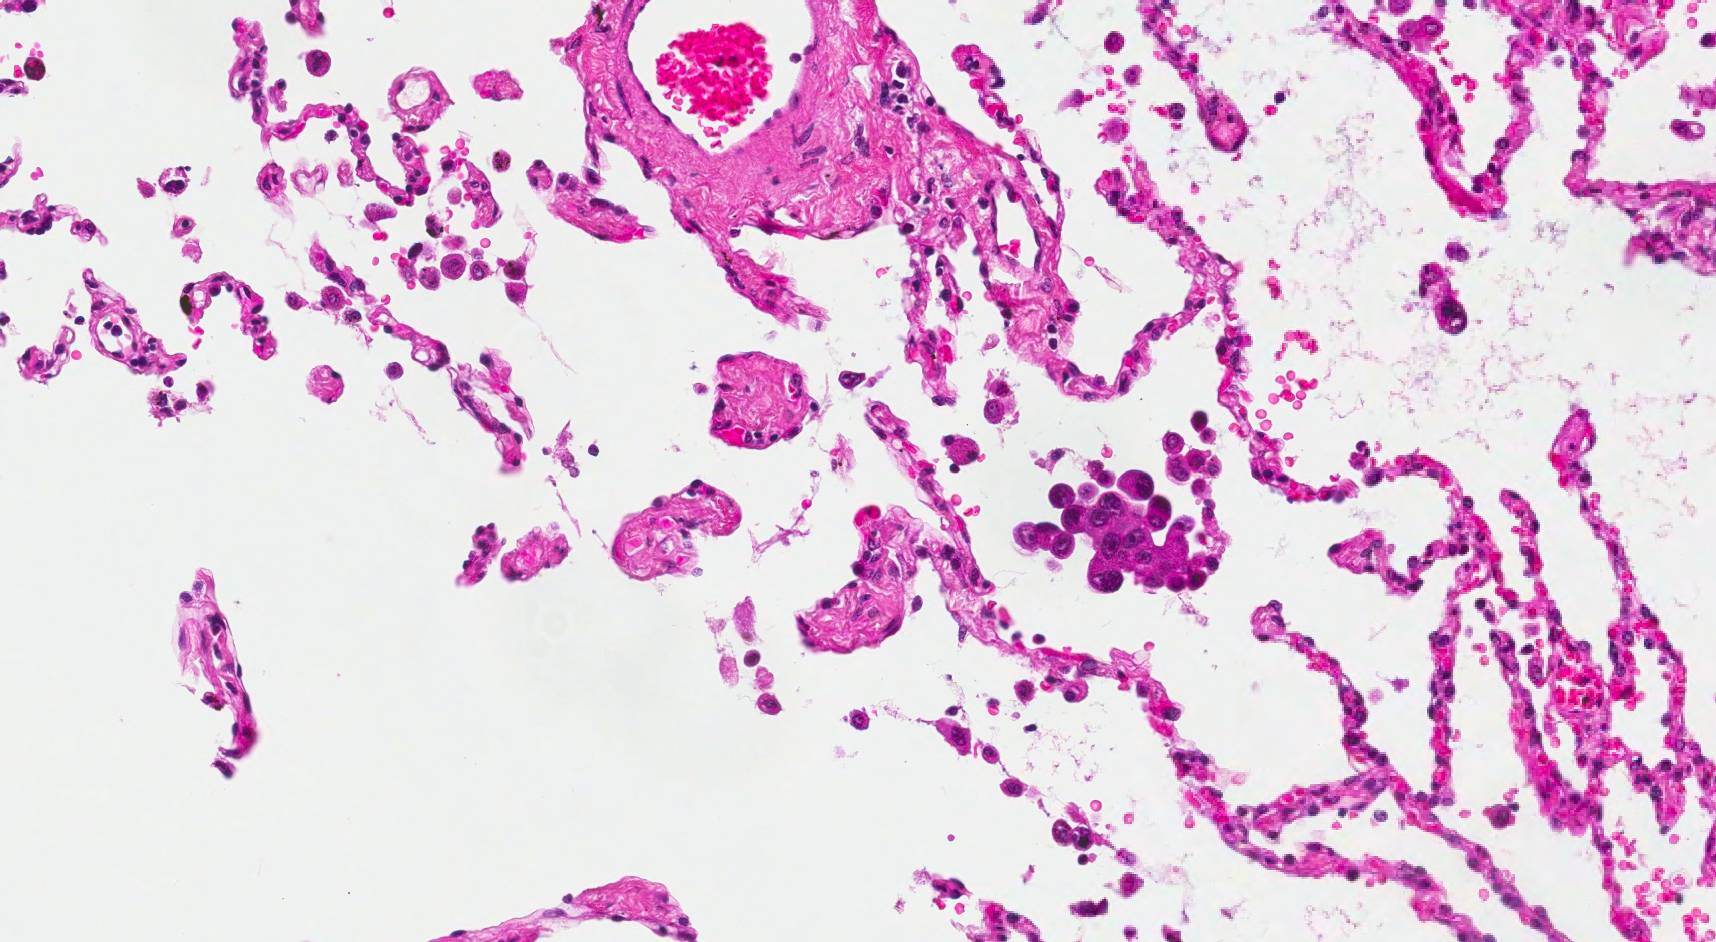stas: (1014, 466, 1235, 601), (1420, 261, 1466, 335)
